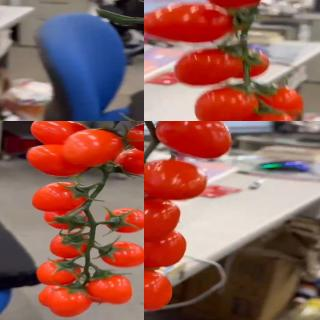tomato: (144, 0, 233, 44), (157, 121, 236, 159), (175, 46, 245, 86), (144, 159, 208, 201), (60, 129, 124, 169), (193, 84, 259, 121), (27, 142, 90, 178), (248, 82, 305, 121), (32, 180, 89, 212), (144, 228, 186, 269), (144, 196, 180, 241), (31, 121, 95, 146), (85, 273, 133, 305), (48, 286, 94, 318), (37, 258, 86, 286), (232, 49, 271, 84), (99, 239, 144, 268), (144, 267, 173, 311), (49, 234, 92, 261), (104, 206, 144, 233), (41, 207, 87, 230), (38, 284, 82, 308), (111, 148, 144, 174), (235, 111, 299, 121), (124, 123, 144, 154)
